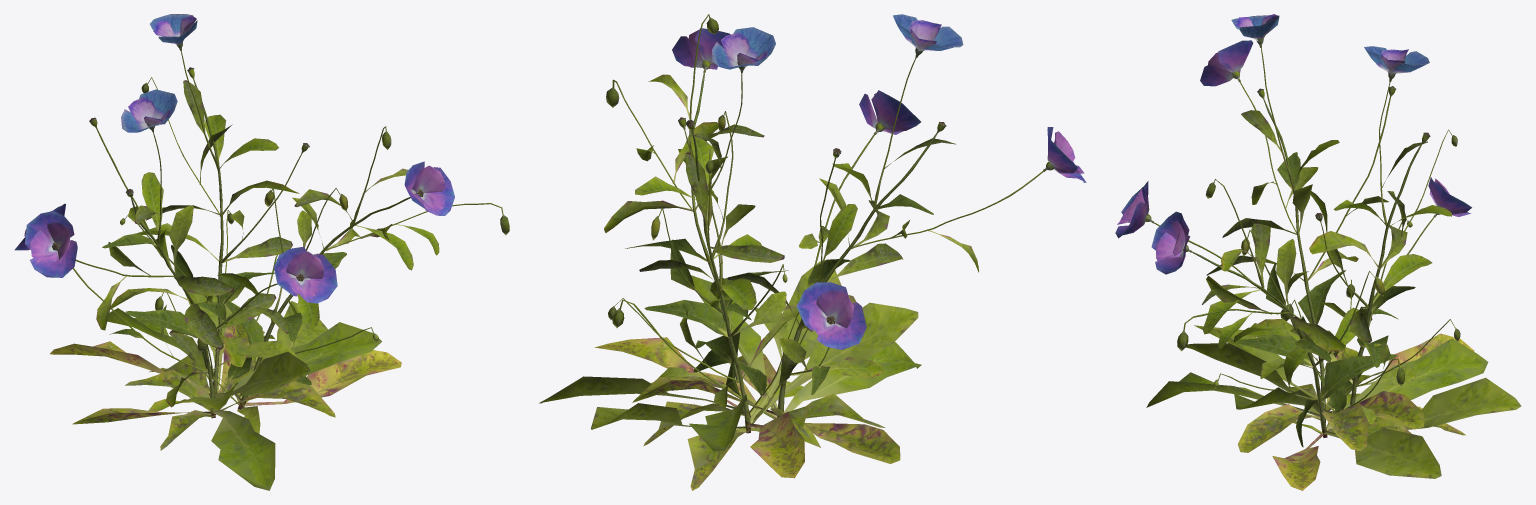
Rendered from Poppy_bush_short_lightblue.glb.
The picture shows the model from 3 angles, left to right: view 1: azimuth 30°, elevation 25°; view 2: azimuth 150°, elevation 25°; view 3: azimuth 270°, elevation 25°; orthographic projection. The views are drawn at different scales.
Parts seen in each view (by area): view 1: bush jr; view 2: bush jr; view 3: bush jr.
Boxes of the visible parts, bbox=[...] form: bush jr: bbox=[14, 14, 509, 490]; bush jr: bbox=[539, 14, 1086, 490]; bush jr: bbox=[1115, 14, 1521, 490].
Bounding box in the file's own units: 4.09 × 3.29 × 3.16.
Materials: 1 (1 with a texture image).
